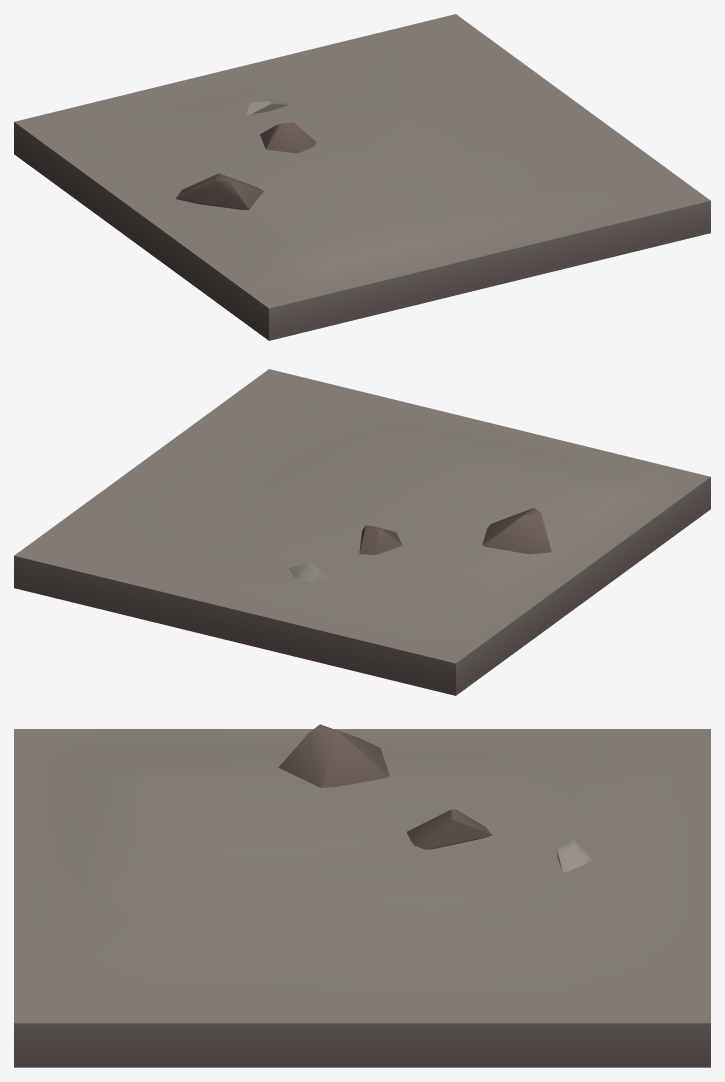
File: floor_cave_small_C.glb
3 views of the same model, one above another, from view 1: azimuth 30°, elevation 25°; view 2: azimuth 150°, elevation 25°; view 3: azimuth 270°, elevation 25° (orthographic). The views are drawn at different scales.
Visible parts, largest first — view 1: Item; view 2: Item; view 3: Item.
Part boxes in pixels (box(x1,y1,x2,y2)): Item: box(14, 14, 710, 340); Item: box(14, 369, 710, 695); Item: box(14, 724, 710, 1067).
Size of the model in its own units: 2 by 0.2761 by 2.
1 material, 1 textured.
